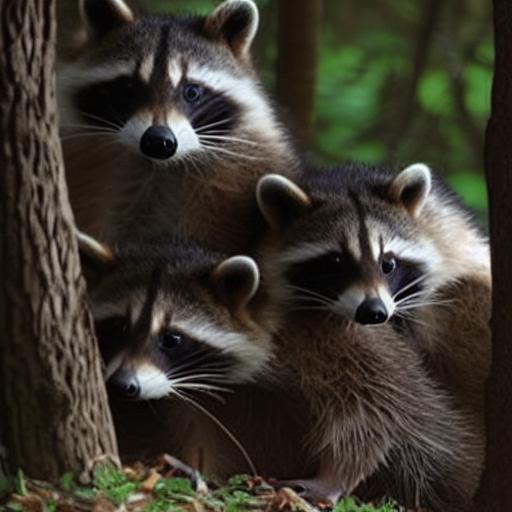raccoon: (72, 226, 495, 512), (57, 0, 309, 272), (238, 165, 512, 386)
